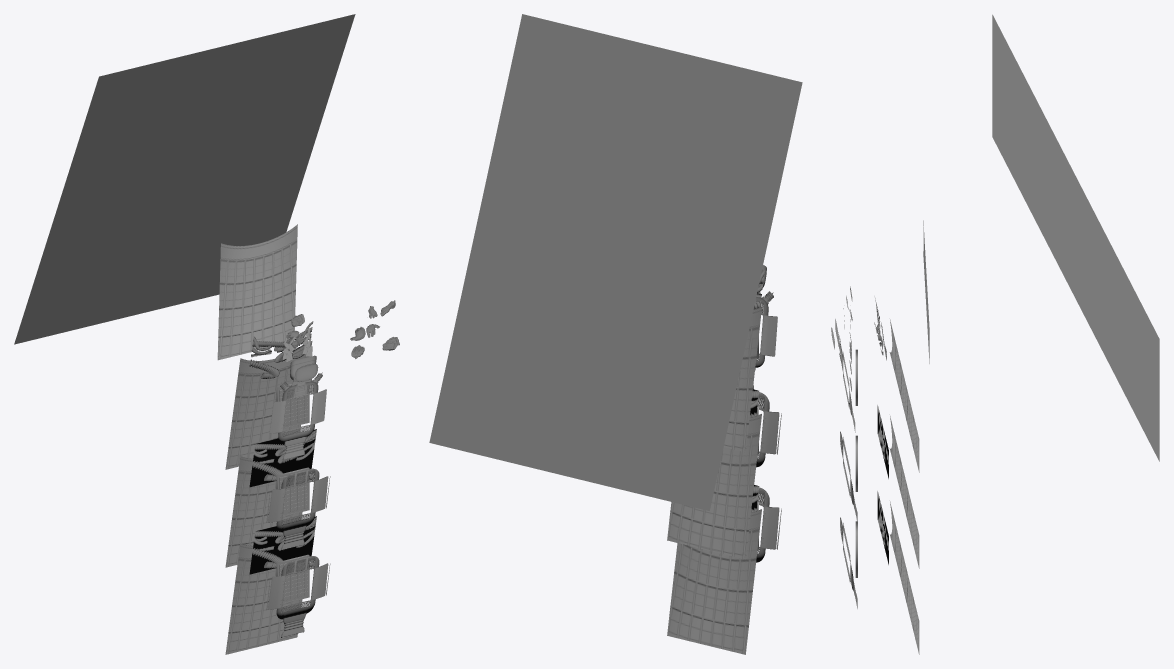
The model's file is gameSetup2.FBX.
3 views of the same model, side by side, from view 1: azimuth 30°, elevation 25°; view 2: azimuth 150°, elevation 25°; view 3: azimuth 270°, elevation 25° (orthographic). The views are drawn at different scales.
Visible parts, largest first — view 1: sky, coolingTower top, coolingTower repeat001, Bottom04, coolingTower repeat002, body top, Bottom03, body repeat001, hoses repeat001, Bottom06, hoses top, gameBoard001 (+2 smaller); view 2: sky, Bottom04, coolingTower repeat002, coolingTower repeat001, Bottom03, body repeat001, body top; view 3: sky, coolingTower repeat001, coolingTower repeat002, Bottom04.
Part boxes in pixels (x1,y1,x2,y2): sky: [14, 14, 355, 344]; coolingTower top: [217, 224, 297, 360]; coolingTower repeat001: [225, 341, 312, 469]; Bottom04: [225, 543, 302, 654]; coolingTower repeat002: [225, 456, 302, 567]; body top: [270, 355, 326, 460]; Bottom03: [266, 556, 330, 637]; body repeat001: [266, 468, 330, 550]; hoses repeat001: [249, 429, 316, 487]; Bottom06: [249, 516, 316, 574]; hoses top: [249, 321, 313, 378]; gameBoard001: [279, 474, 307, 513]; sky: [429, 14, 802, 510]; Bottom04: [667, 509, 761, 654]; coolingTower repeat002: [667, 414, 761, 559]; coolingTower repeat001: [723, 307, 761, 452]; Bottom03: [756, 487, 781, 562]; body repeat001: [756, 392, 781, 467]; body top: [753, 265, 777, 389]; sky: [992, 14, 1159, 461]; coolingTower repeat001: [889, 319, 919, 472]; coolingTower repeat002: [889, 416, 919, 568]; Bottom04: [890, 501, 919, 654].
Size of the model in its own units: 7.34 by 15.67 by 8.27.
Materials: 22 (21 with a texture image).
